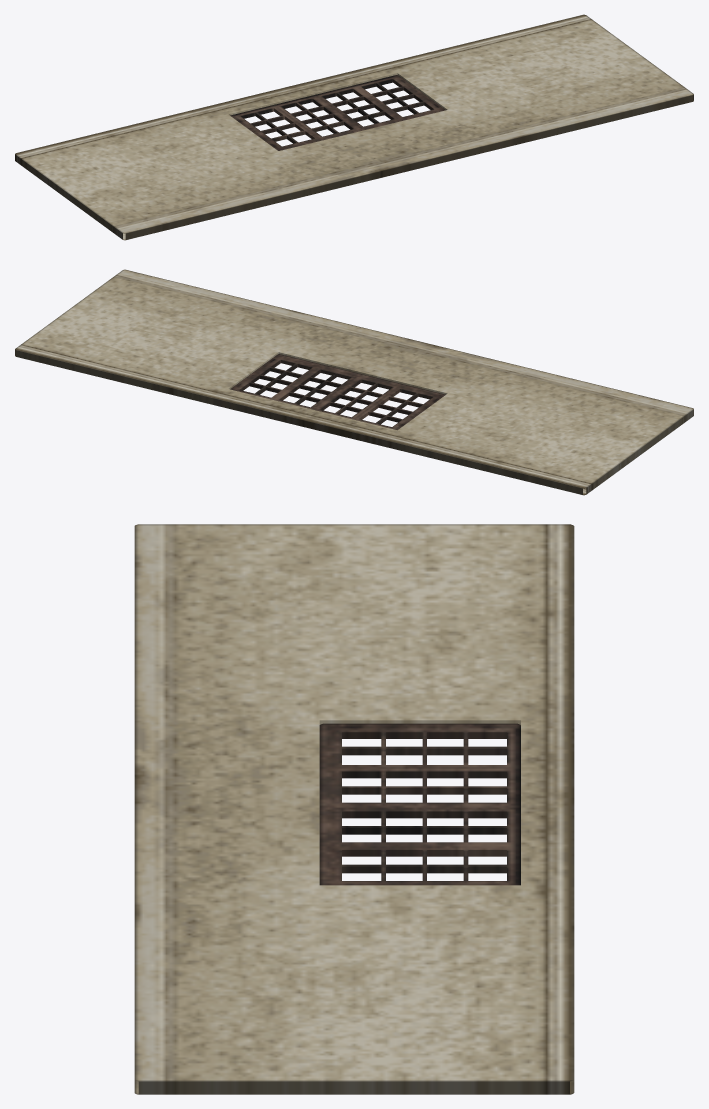
The model's file is SM_EC_House_Wall_Window_2_9x3_0.fbx.
3 views of the same model, one above another, from view 1: azimuth 30°, elevation 25°; view 2: azimuth 150°, elevation 25°; view 3: azimuth 270°, elevation 25° (orthographic). The views are drawn at different scales.
Visible parts, largest first — view 1: SM_EC_House_Wall_Window_2_9x3_0; view 2: SM_EC_House_Wall_Window_2_9x3_0; view 3: SM_EC_House_Wall_Window_2_9x3_0.
Part boxes in pixels (x1=…): SM_EC_House_Wall_Window_2_9x3_0: x1=15, y1=14, x2=693, y2=240; SM_EC_House_Wall_Window_2_9x3_0: x1=15, y1=269, x2=693, y2=495; SM_EC_House_Wall_Window_2_9x3_0: x1=134, y1=524, x2=574, y2=1094.
Size of the model in its own units: 9 by 3 by 0.1.
